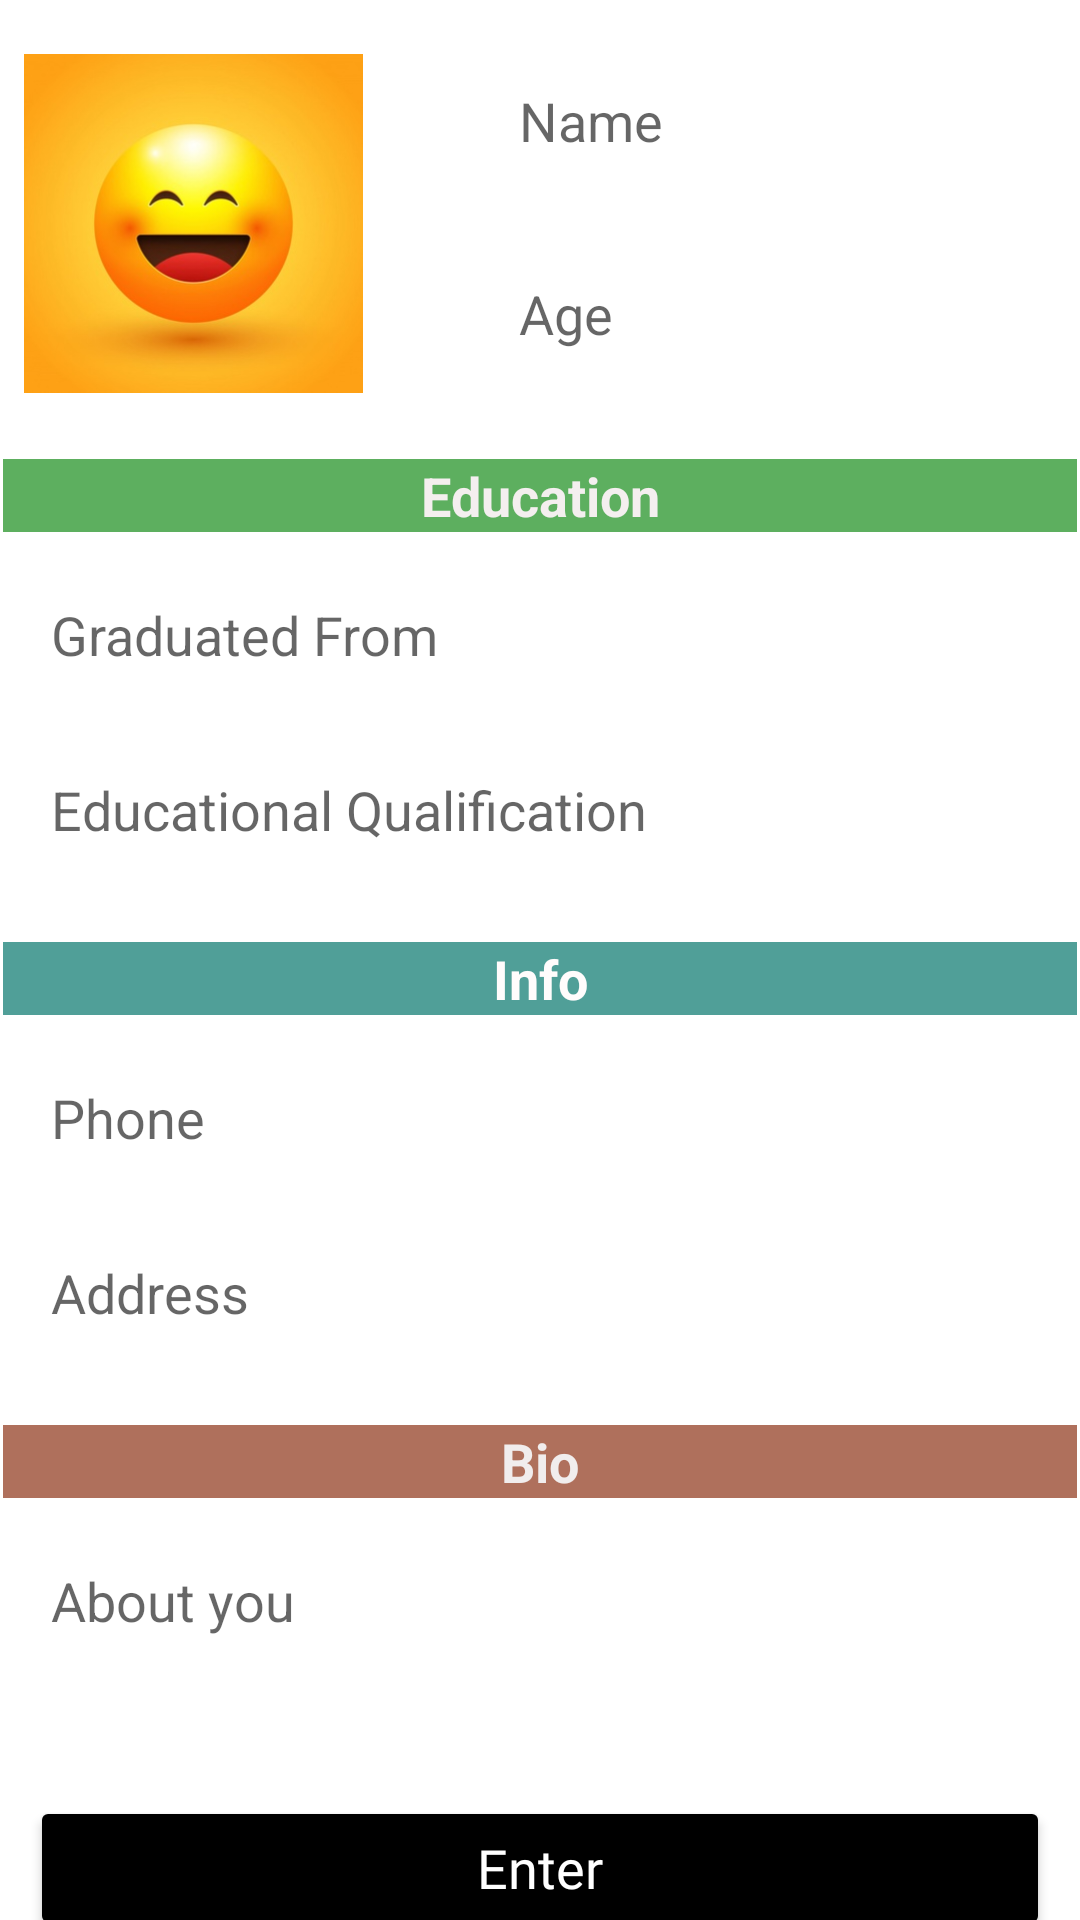

Locate icon controls on the screen. Image size 1080x1920, boxes as (x1, y1, x2, y2).
happy face: (24, 54, 363, 393)
